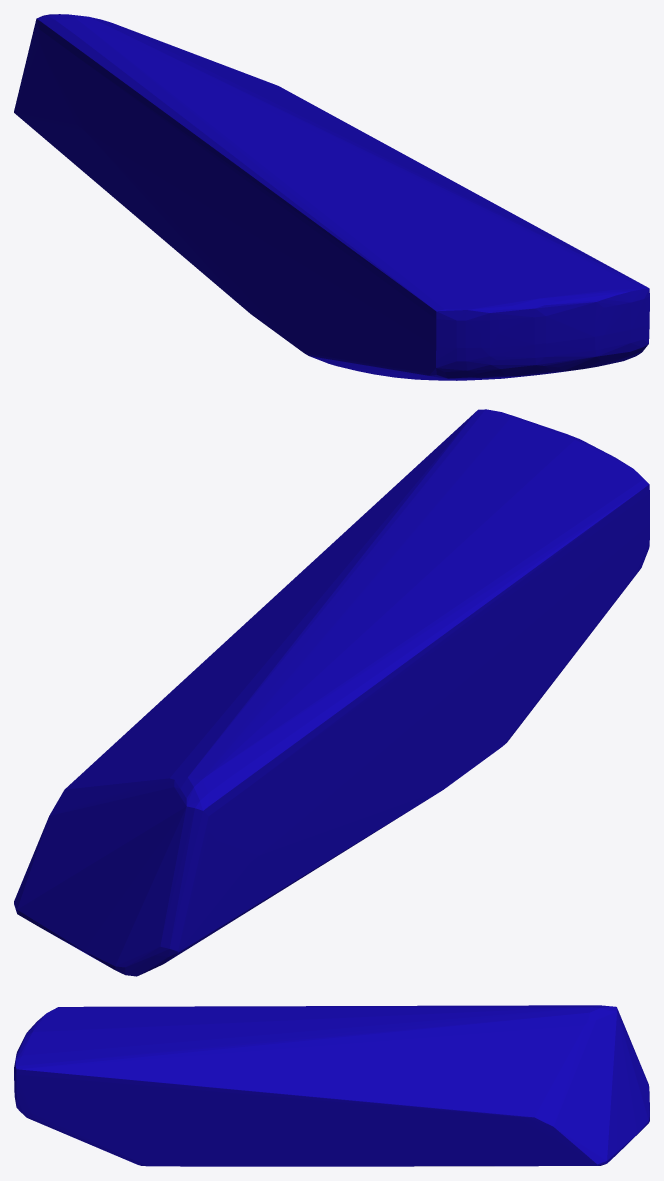
Rendered from right-hip-yaw-0_part_5.obj.
The picture shows the model from 3 angles, top to bottom: view 1: azimuth 30°, elevation 25°; view 2: azimuth 150°, elevation 25°; view 3: azimuth 270°, elevation 25°; orthographic projection. The views are drawn at different scales.
Size of the model in its own units: 0.0275 by 0.0221 by 0.1176.
